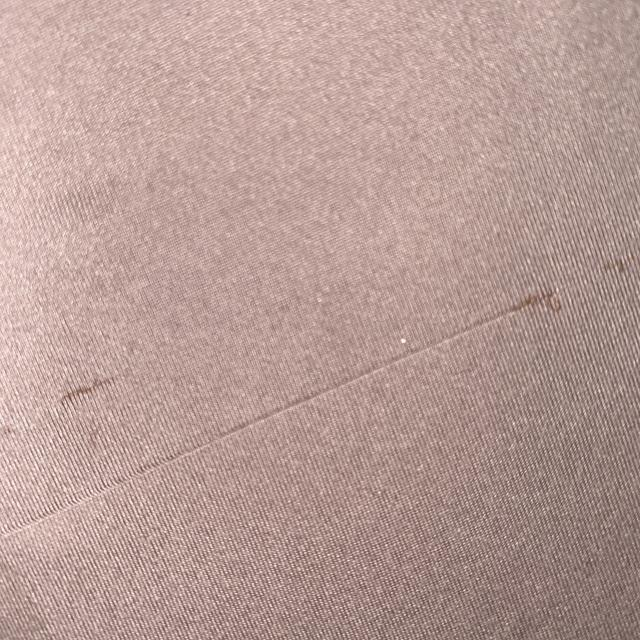Line: (0, 288, 562, 542)
Stain: (57, 374, 115, 402)
